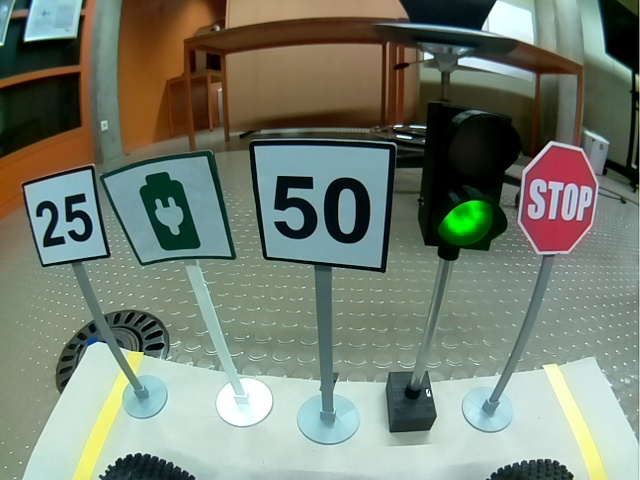battery: (99, 149, 237, 267)
speed25: (21, 164, 113, 268)
speed50: (249, 138, 397, 273)
stop: (518, 140, 600, 256)
trafficLightGreen: (417, 101, 522, 252)
